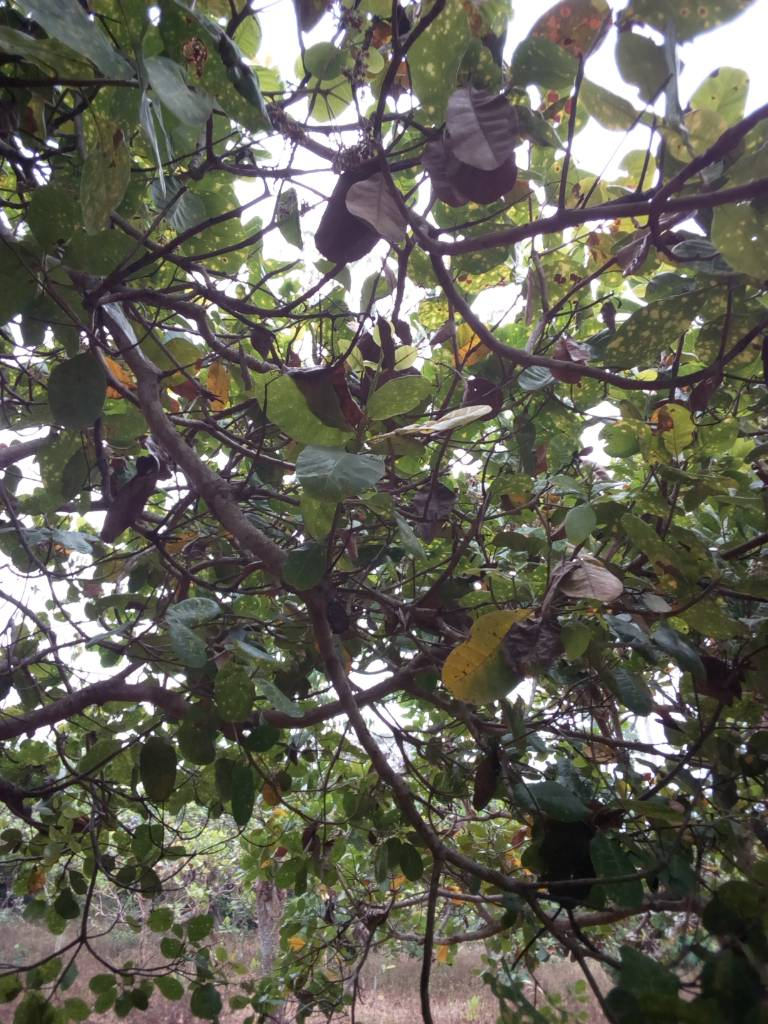Alternariose: (440, 610, 543, 708)
